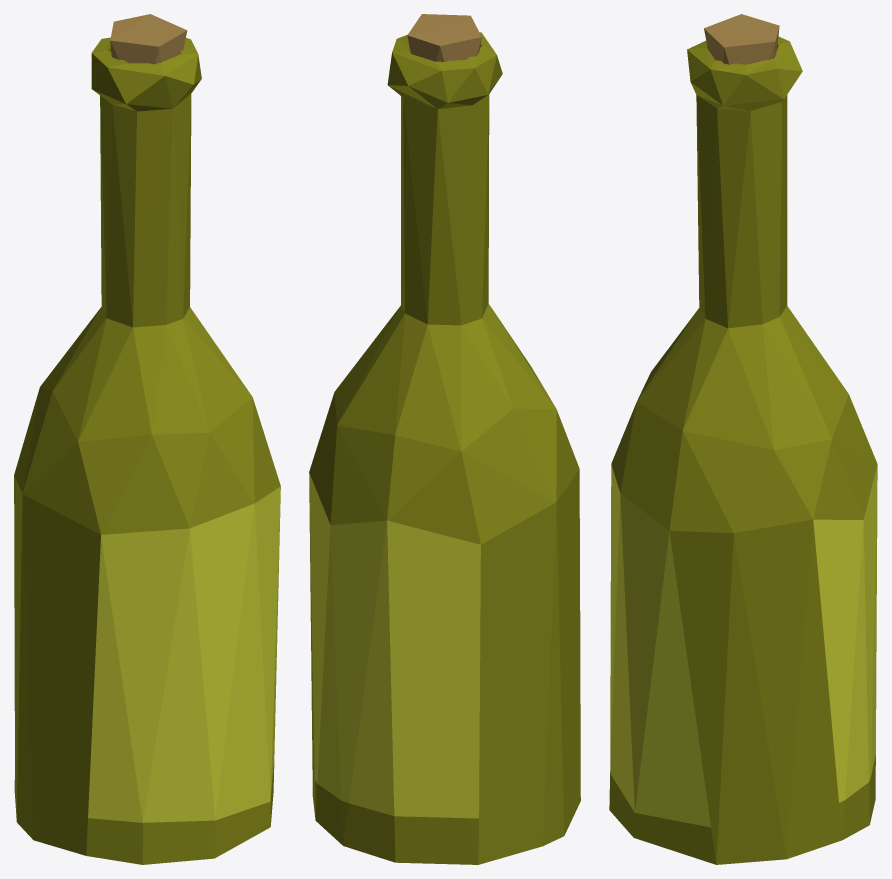
The model's file is Bottle07.fbx.
The picture shows the model from 3 angles, left to right: view 1: azimuth 30°, elevation 25°; view 2: azimuth 150°, elevation 25°; view 3: azimuth 270°, elevation 25°; orthographic projection.
Visible parts, largest first — view 1: Bottle07LowPoly; view 2: Bottle07LowPoly; view 3: Bottle07LowPoly.
Part boxes in pixels (x1,y1,x2,y2): Bottle07LowPoly: (14, 14, 280, 864); Bottle07LowPoly: (309, 14, 580, 864); Bottle07LowPoly: (609, 14, 877, 864).
Size of the model in its own units: 9.27 by 29.52 by 9.22.
